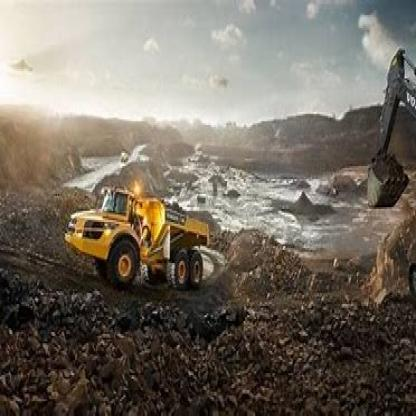dump_truck: (66, 181, 217, 300)
